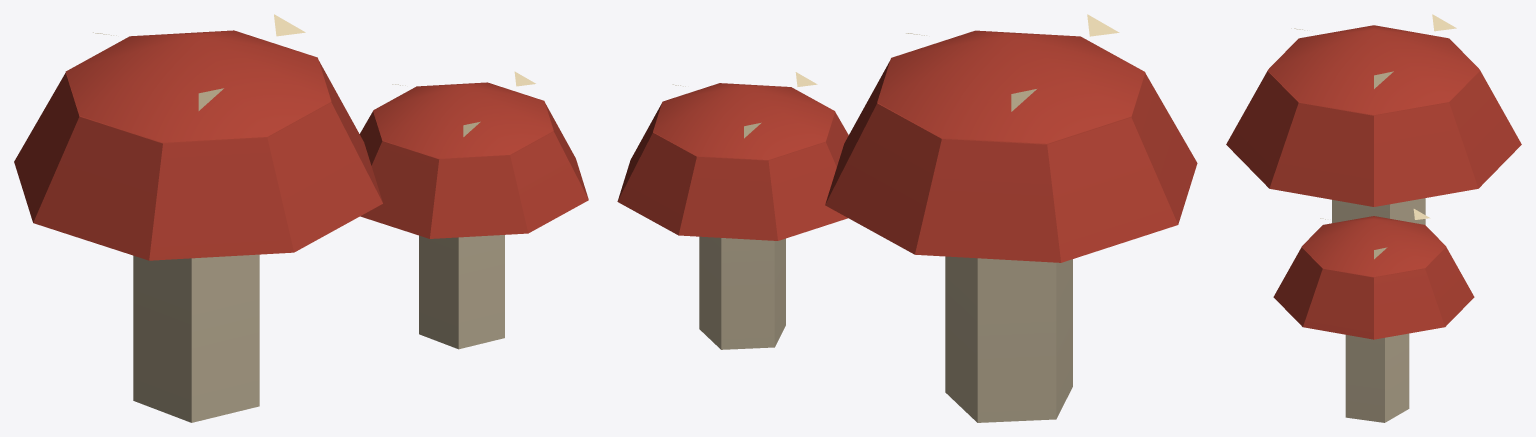
Rendered from mushroom.glb.
3 views of the same model, side by side, from view 1: azimuth 30°, elevation 25°; view 2: azimuth 150°, elevation 25°; view 3: azimuth 270°, elevation 25° (orthographic). The views are drawn at different scales.
Parts seen in each view (by area): view 1: mushroom; view 2: mushroom; view 3: mushroom.
Boxes of the visible parts, x1=… form: mushroom: x1=14, y1=14, x2=588, y2=422; mushroom: x1=617, y1=14, x2=1197, y2=422; mushroom: x1=1226, y1=14, x2=1521, y2=422.
Size of the model in its own units: 0.328 by 0.208 by 0.2.
